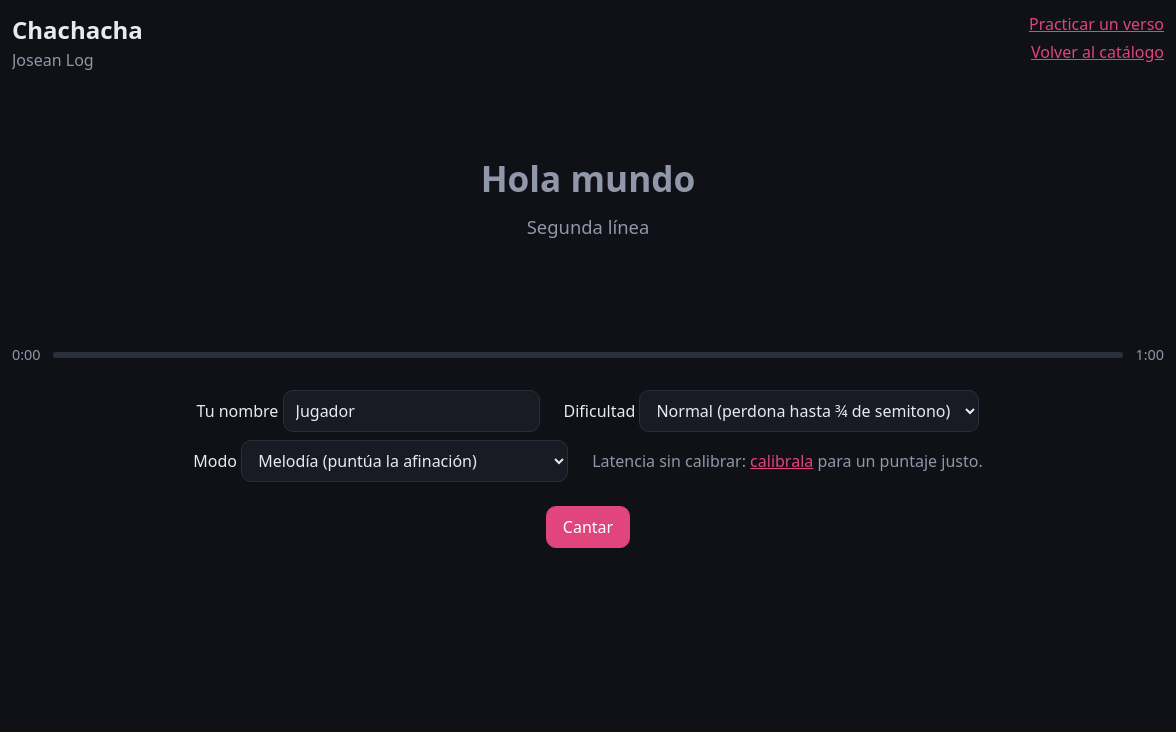
Scenario: SongPage › explains a line score of {"score":40,"hit":false}
The image size is (1176, 732).
Click the button "Cantar" at (588, 527), box top-left (546, 506), bottom-right (630, 548)
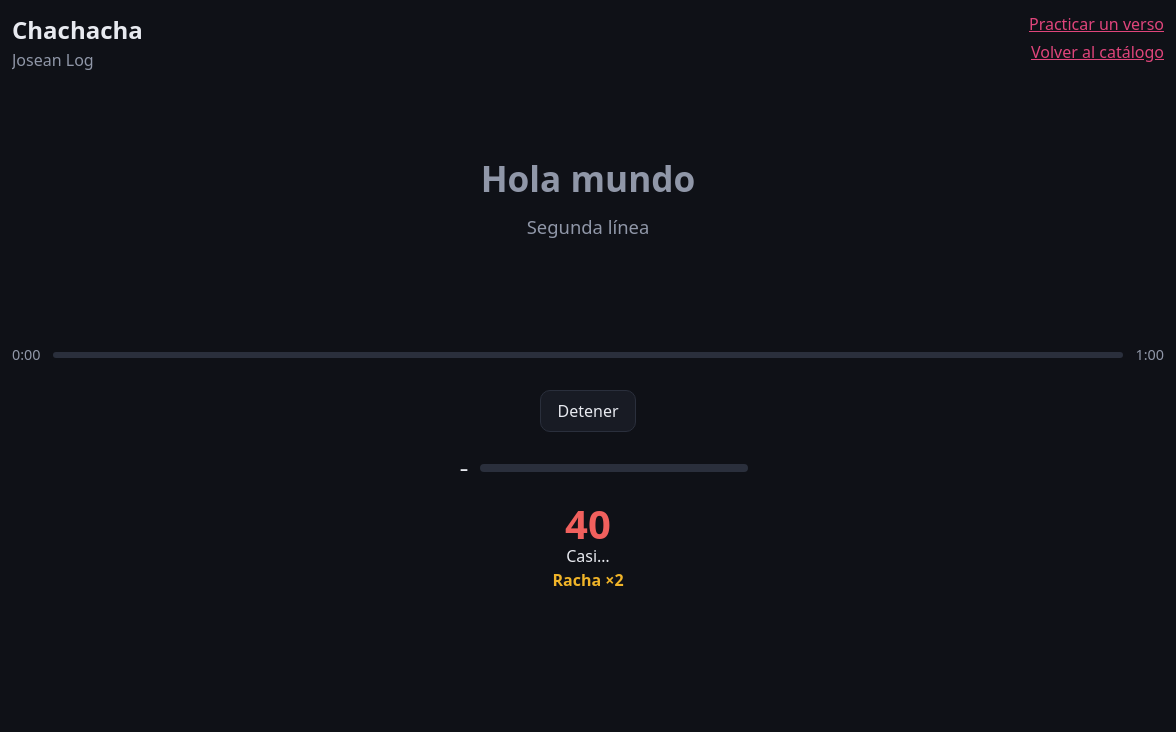
Check: the button "Detener" is shown, box top-left (540, 390), bottom-right (636, 432)
Check: the message named "Puntaje del verso" shows "Casi…", box top-left (566, 545), bottom-right (610, 567)
